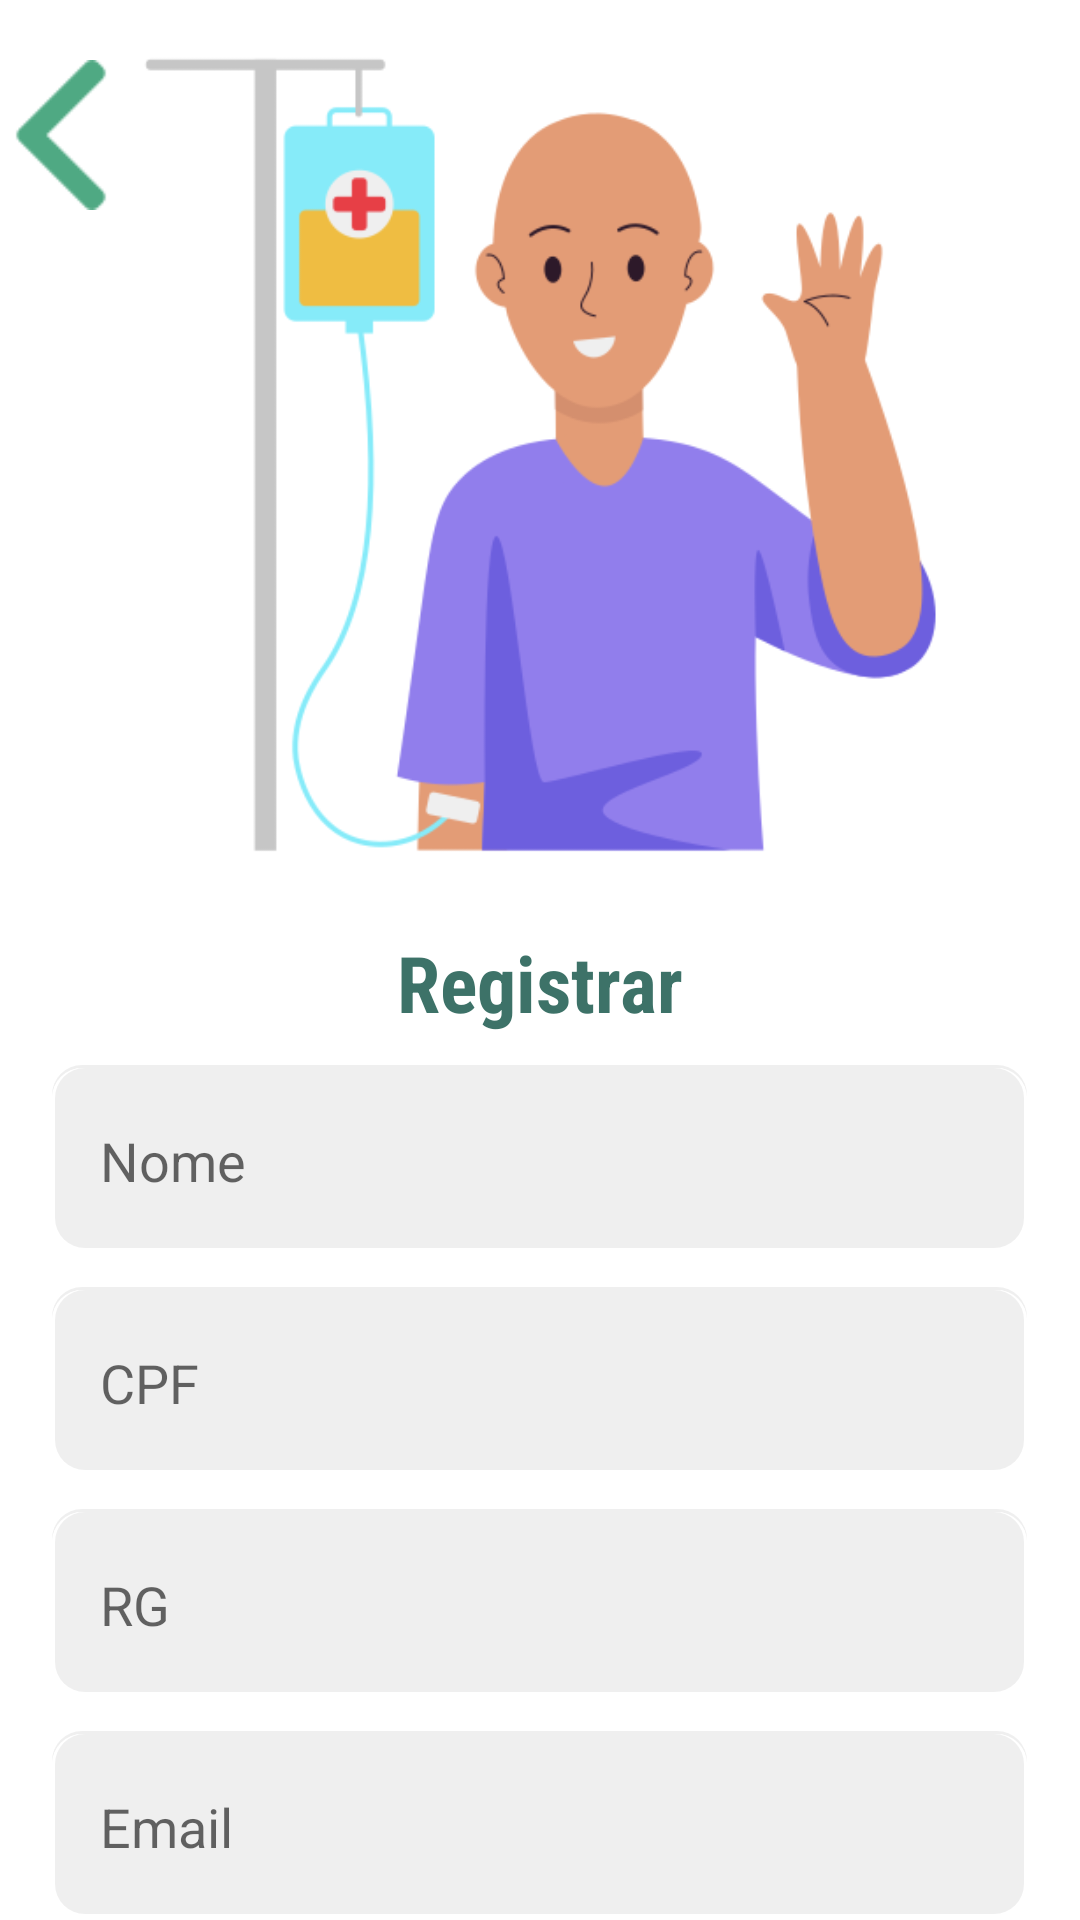

Where to tap for icons on this 1080 x 1920 app screen, as (x=x, y=y):
setavoltar: (x=61, y=135)
